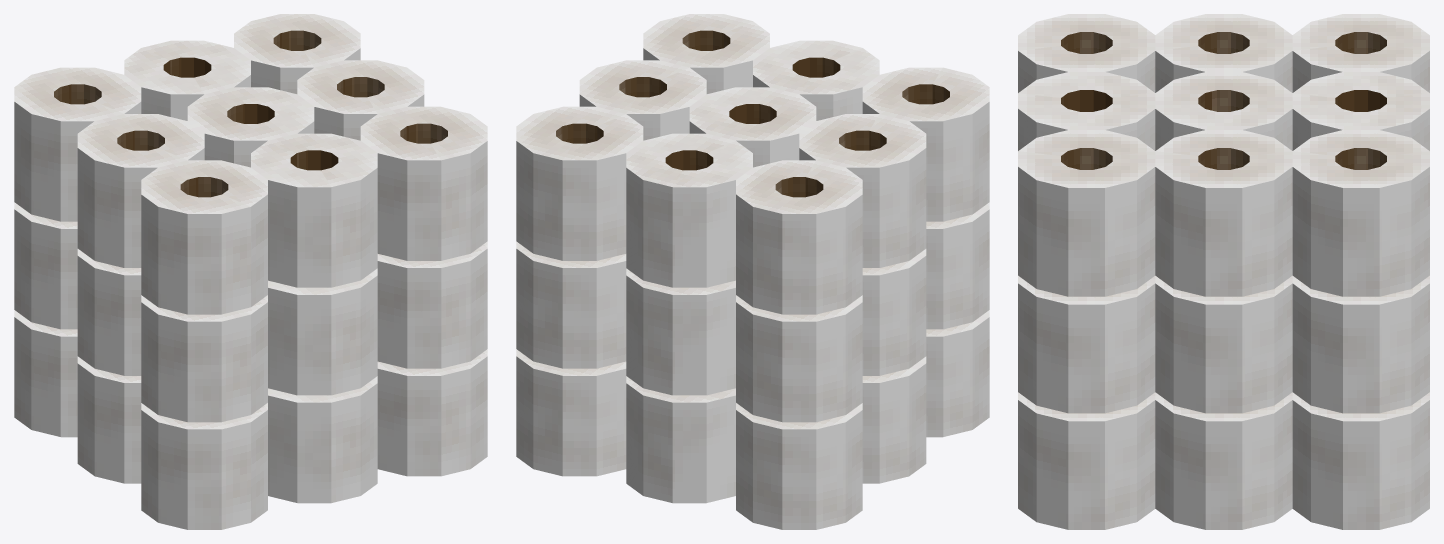
File: toilet_paper.fbx
3 views of the same model, side by side, from view 1: azimuth 30°, elevation 25°; view 2: azimuth 150°, elevation 25°; view 3: azimuth 270°, elevation 25° (orthographic). The views are drawn at different scales.
Visible parts, largest first — view 1: cylinder; view 2: cylinder; view 3: cylinder.
Boxes of the visible parts, x1,y1,x2,y2 form: cylinder: [14, 14, 487, 529]; cylinder: [516, 14, 989, 529]; cylinder: [1018, 14, 1429, 529].
Bounding box in the file's own units: 300 × 275 × 300.
1 material, 1 textured.
